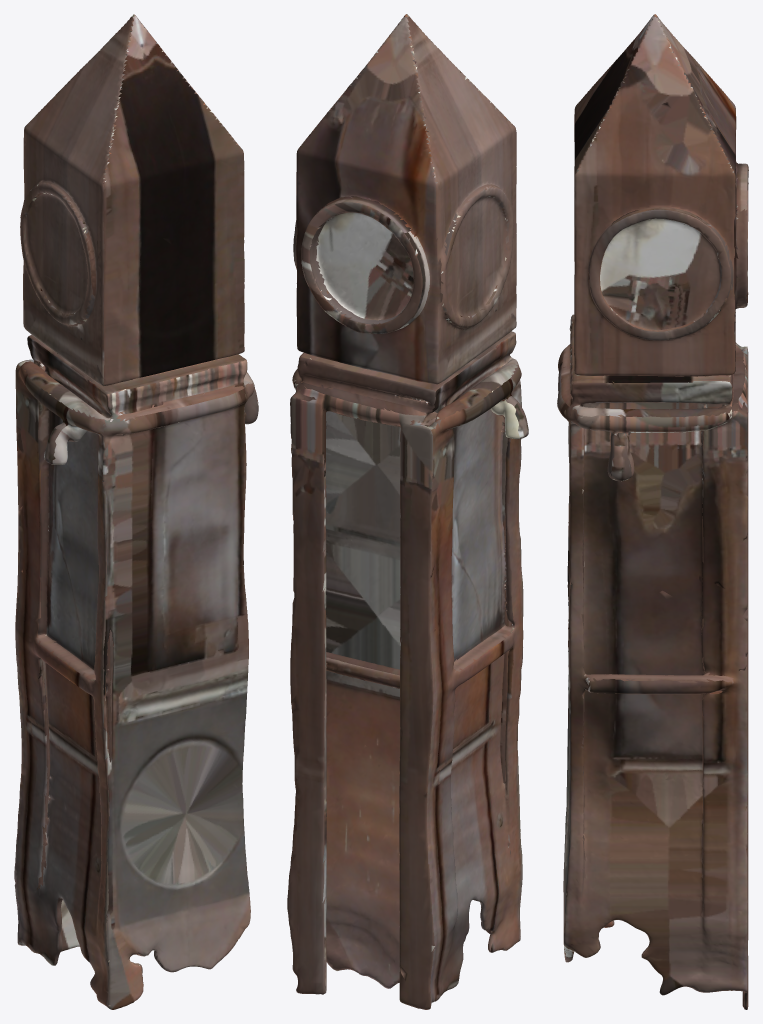
The model's file is Clocktower.glb.
The picture shows the model from 3 angles, left to right: view 1: azimuth 30°, elevation 25°; view 2: azimuth 150°, elevation 25°; view 3: azimuth 270°, elevation 25°; orthographic projection.
Visible parts, largest first — view 1: Node #0; view 2: Node #0; view 3: Node #0.
Part boxes in pixels (bbox=[...]): Node #0: bbox=[14, 14, 258, 1009]; Node #0: bbox=[287, 14, 528, 1009]; Node #0: bbox=[557, 14, 748, 1009].
Size of the model in its own units: 0.4566 by 2 by 0.3597.
Materials: 1 (1 with a texture image).
